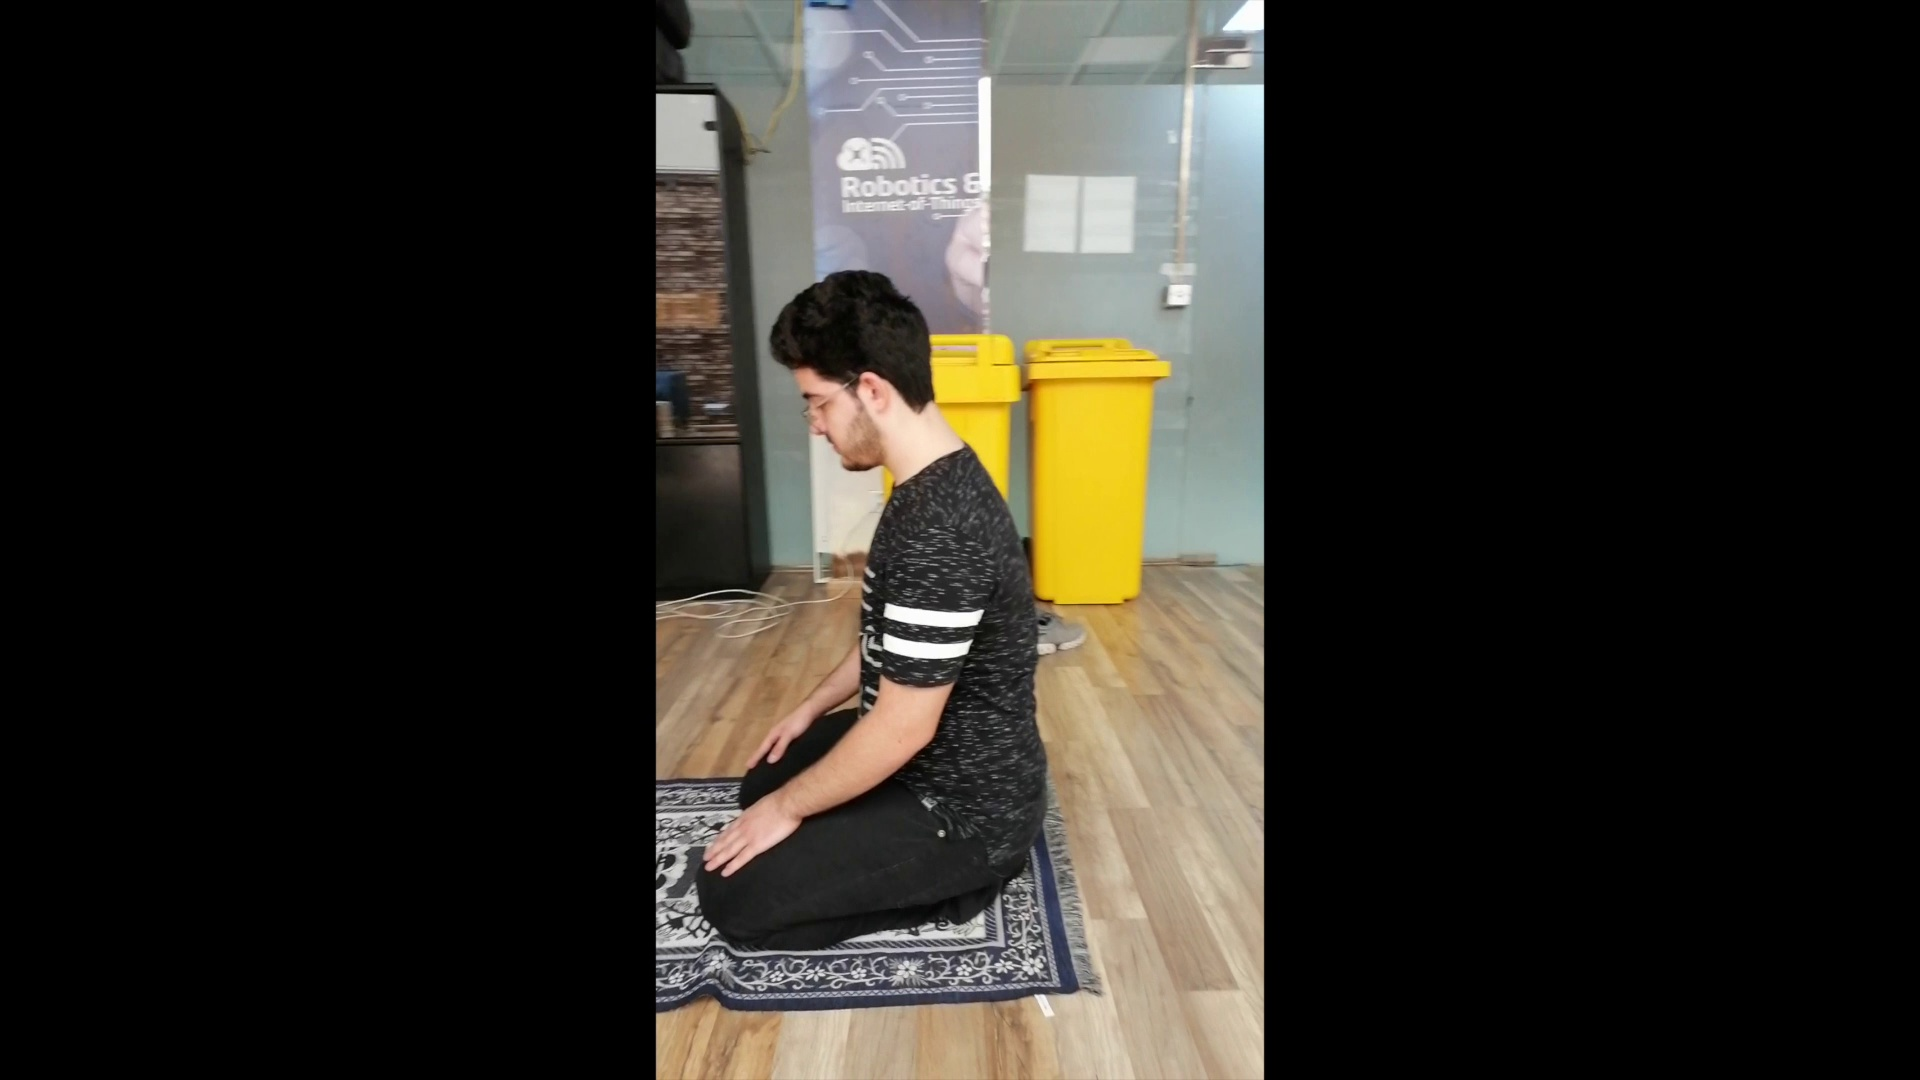sitting: (691, 265, 1054, 960)
